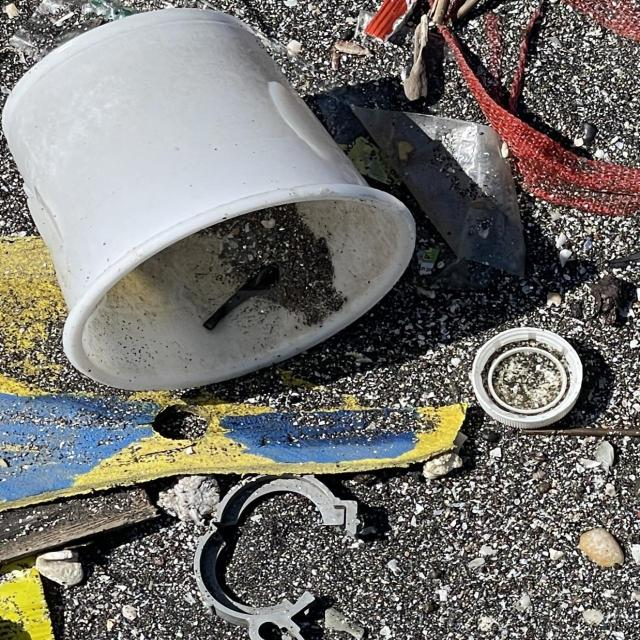plastic_waste: (0, 6, 418, 394), (472, 327, 587, 429)
